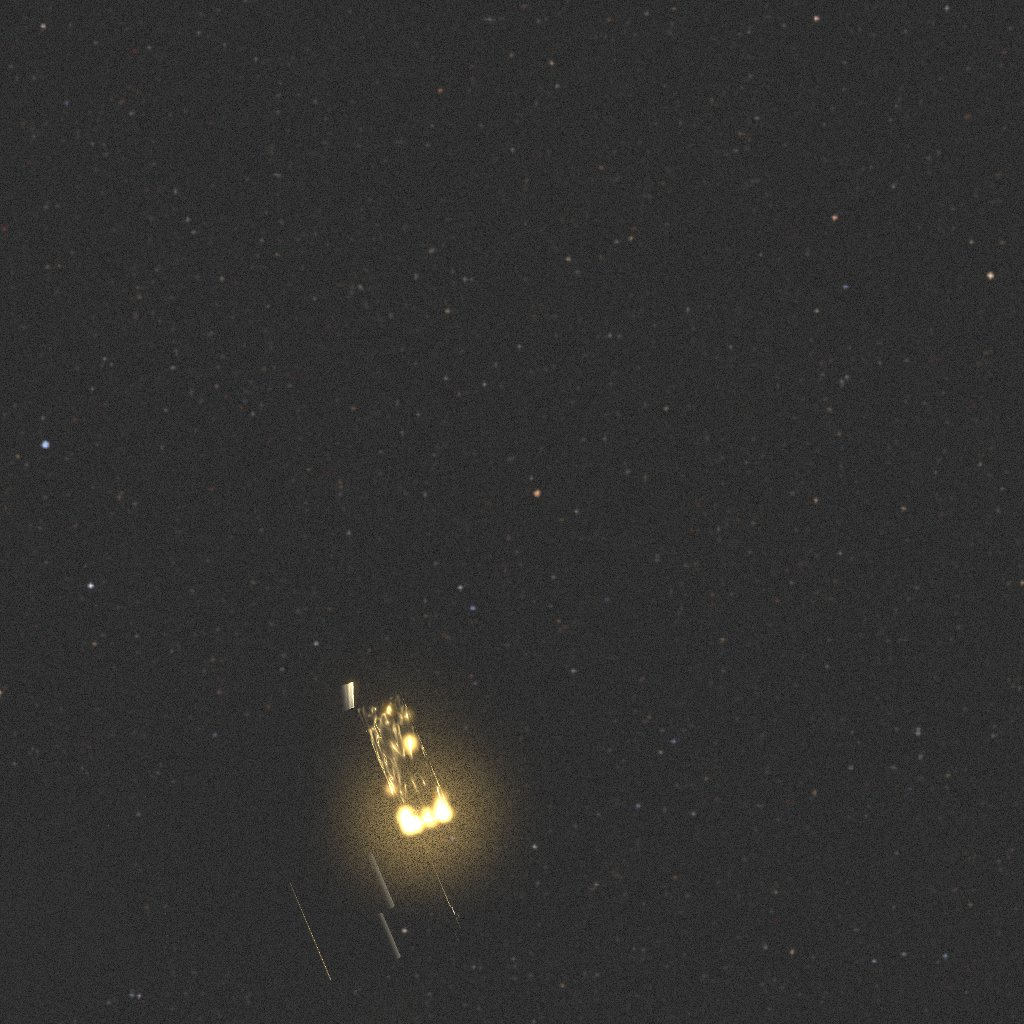earth_observation_sat_1: (0, 682, 460, 1024)
